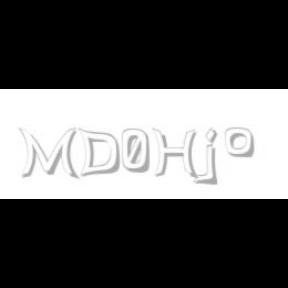0: (122, 128, 152, 174)
D: (78, 128, 120, 178)
H: (152, 128, 198, 180)
M: (18, 128, 78, 180)
j: (202, 128, 232, 186)
o: (225, 128, 254, 158)
